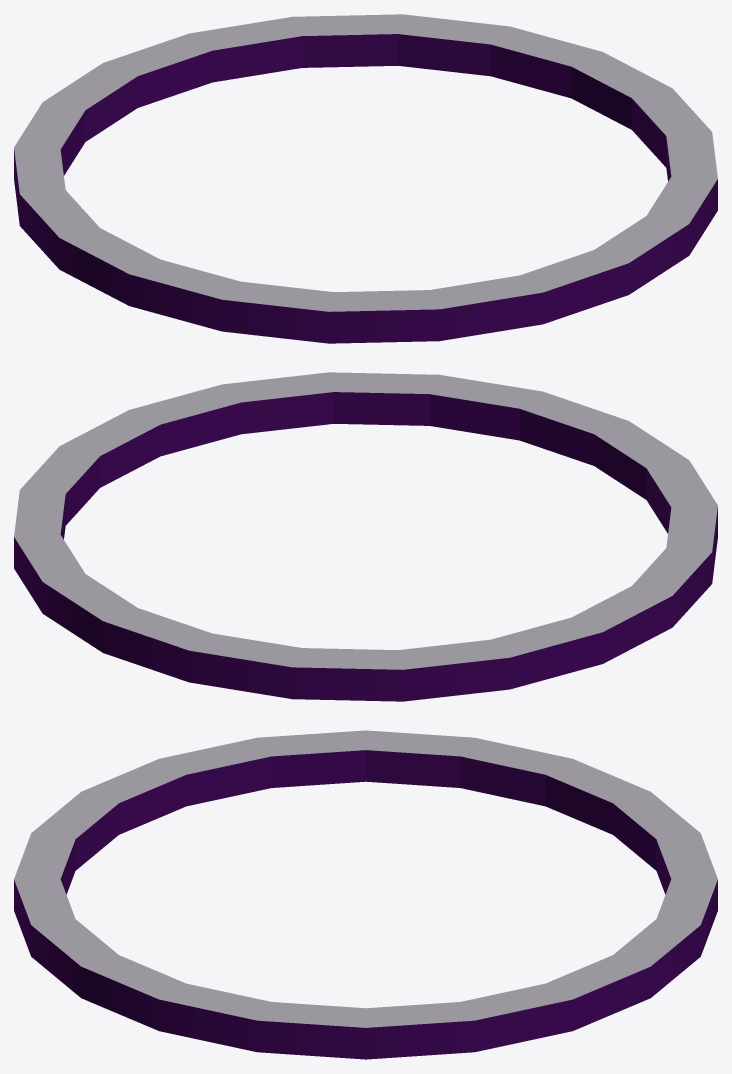
File: Onion02SmallRing2.fbx
3 renders of one model, top to bottom at view 1: azimuth 30°, elevation 25°; view 2: azimuth 150°, elevation 25°; view 3: azimuth 270°, elevation 25°, orthographic.
Parts seen in each view (by area): view 1: polySurface13, polySurface11, polySurface12; view 2: polySurface13, polySurface11, polySurface12; view 3: polySurface13, polySurface11, polySurface12.
Part boxes in pixels (box(x1,y1,x2,y2)): polySurface13: box(14, 14, 717, 311); polySurface11: box(14, 149, 717, 343); polySurface12: box(60, 34, 671, 181); polySurface13: box(14, 372, 717, 669); polySurface11: box(14, 507, 717, 701); polySurface12: box(60, 392, 671, 539); polySurface13: box(14, 730, 717, 1027); polySurface11: box(14, 880, 717, 1059); polySurface12: box(60, 750, 671, 894).
Size of the model in its own units: 10.09 by 0.5 by 10.09.
